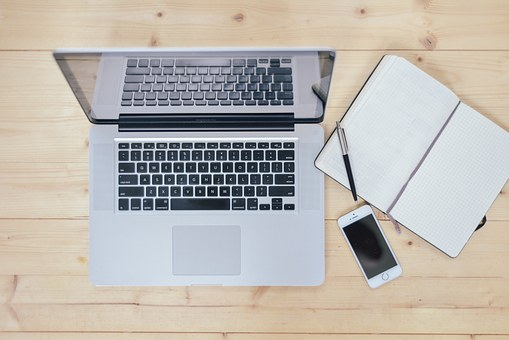mobile: (333, 197, 406, 288)
